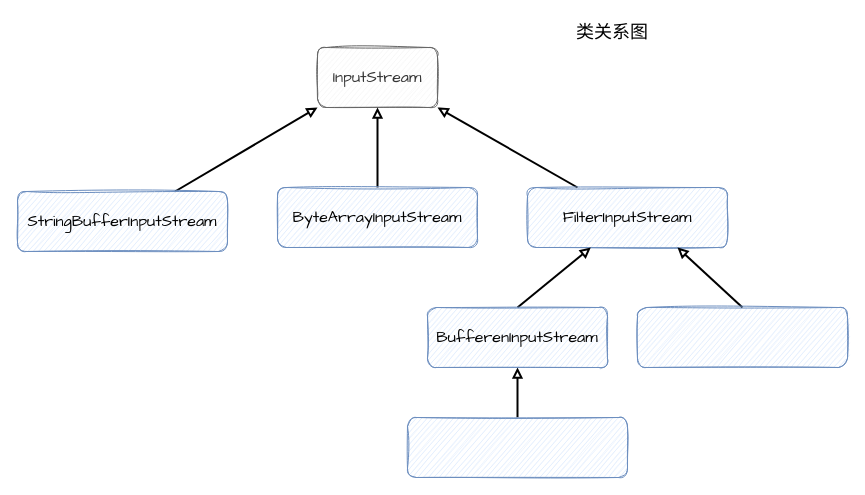
Image size: 865x495. Some labels were removed from this diagram. Here are the shapes that lost their labels. From the top down, the centre of each, then its label:
At (742,337): "LineNumberInputStream".
At (517,447): "LowerCaseInputStream".
